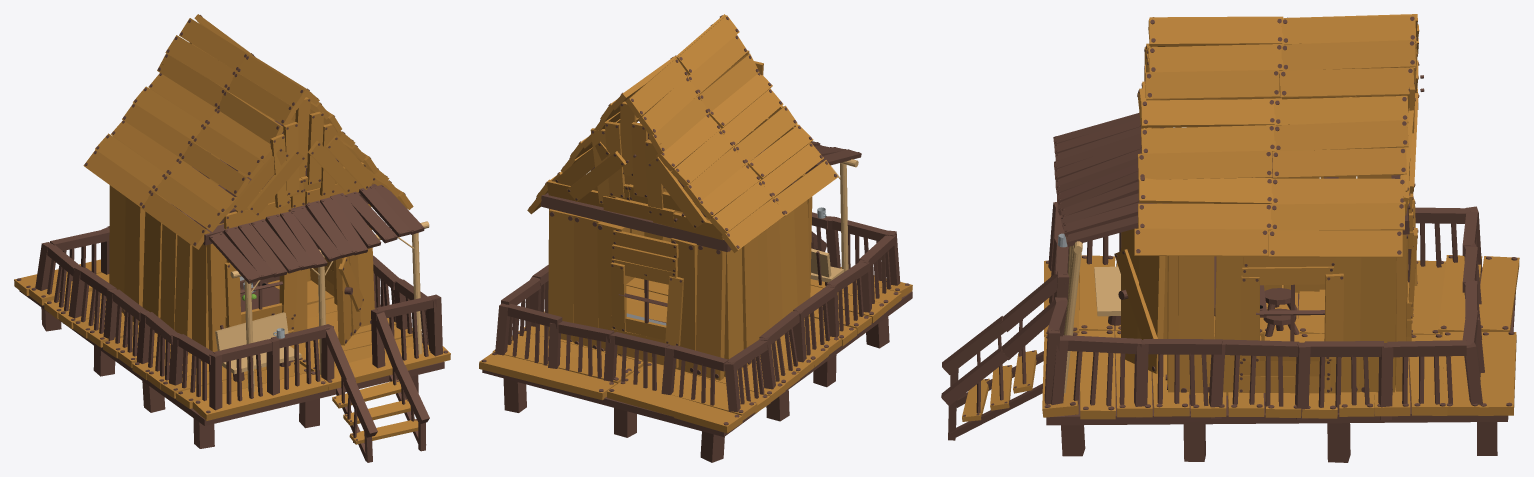
The model's file is model2.gltf.glb.
3 renders of one model, left to right at view 1: azimuth 30°, elevation 25°; view 2: azimuth 150°, elevation 25°; view 3: azimuth 270°, elevation 25°, orthographic. The views are drawn at different scales.
Visible parts, largest first — view 1: node_MeshObject1689219072-PolyPaper20, node_MeshObject1117139968-PolyPaper20, node_MeshObject-44514304-PolyPaper20, node_MeshObject-1760751616-PolyPaper21, node_MeshObject-27018240-PolyPaper20, node_MeshObject545060864-PolyPaper20, node_MeshObject-1461590016-PolyPaper20, node_MeshObject-2033669120-PolyPaper20; view 2: node_MeshObject1117139968-PolyPaper20, node_MeshObject-27018240-PolyPaper20, node_MeshObject-1760751616-PolyPaper21, node_MeshObject-44514304-PolyPaper20, node_MeshObject545060864-PolyPaper20, node_MeshObject1689219072-PolyPaper20, node_MeshObject-1461590016-PolyPaper20, node_MeshObject-2033669120-PolyPaper20; view 3: node_MeshObject-44514304-PolyPaper20, node_MeshObject-1760751616-PolyPaper21, node_MeshObject1117139968-PolyPaper20, node_MeshObject1689219072-PolyPaper20, node_MeshObject-27018240-PolyPaper20, node_MeshObject-1461590016-PolyPaper20, node_MeshObject545060864-PolyPaper20, node_MeshObject-2033669120-PolyPaper20.
Part boxes in pixels (x1=…): node_MeshObject1689219072-PolyPaper20: x1=84, y1=103, x2=430, y2=391; node_MeshObject1117139968-PolyPaper20: x1=35, y1=211, x2=442, y2=448; node_MeshObject-44514304-PolyPaper20: x1=123, y1=14, x2=413, y2=209; node_MeshObject-1760751616-PolyPaper21: x1=14, y1=259, x2=450, y2=425; node_MeshObject-27018240-PolyPaper20: x1=41, y1=120, x2=407, y2=376; node_MeshObject545060864-PolyPaper20: x1=109, y1=165, x2=334, y2=333; node_MeshObject-1461590016-PolyPaper20: x1=184, y1=42, x2=429, y2=462; node_MeshObject-2033669120-PolyPaper20: x1=161, y1=52, x2=387, y2=229; node_MeshObject1117139968-PolyPaper20: x1=495, y1=170, x2=900, y2=412; node_MeshObject-27018240-PolyPaper20: x1=481, y1=123, x2=829, y2=462; node_MeshObject-1760751616-PolyPaper21: x1=479, y1=267, x2=912, y2=436; node_MeshObject-44514304-PolyPaper20: x1=527, y1=14, x2=797, y2=214; node_MeshObject545060864-PolyPaper20: x1=611, y1=155, x2=782, y2=380; node_MeshObject1689219072-PolyPaper20: x1=540, y1=73, x2=861, y2=313; node_MeshObject-1461590016-PolyPaper20: x1=547, y1=101, x2=843, y2=323; node_MeshObject-2033669120-PolyPaper20: x1=529, y1=61, x2=797, y2=228; node_MeshObject-44514304-PolyPaper20: x1=1134, y1=14, x2=1419, y2=257; node_MeshObject-1760751616-PolyPaper21: x1=1042, y1=255, x2=1519, y2=425; node_MeshObject1117139968-PolyPaper20: x1=1021, y1=196, x2=1484, y2=462; node_MeshObject1689219072-PolyPaper20: x1=1051, y1=86, x2=1417, y2=419; node_MeshObject-27018240-PolyPaper20: x1=1057, y1=93, x2=1514, y2=455; node_MeshObject-1461590016-PolyPaper20: x1=941, y1=67, x2=1419, y2=456; node_MeshObject545060864-PolyPaper20: x1=1239, y1=175, x2=1413, y2=393; node_MeshObject-2033669120-PolyPaper20: x1=1137, y1=37, x2=1424, y2=254.
Bounding box in the file's own units: 2 × 2.39 × 3.14.
